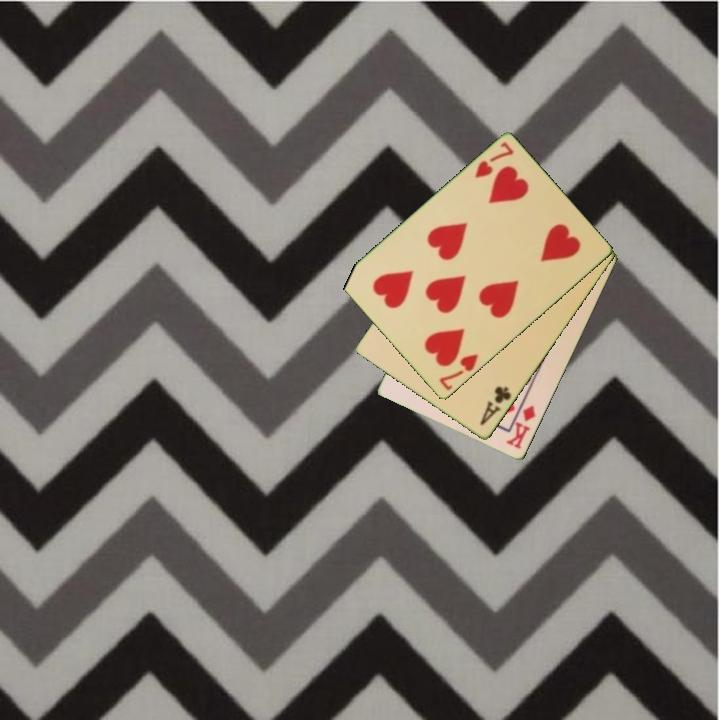7h: (436, 351, 481, 394), (471, 138, 516, 181)
Ac: (476, 383, 514, 429)
Kd: (503, 396, 539, 452)
